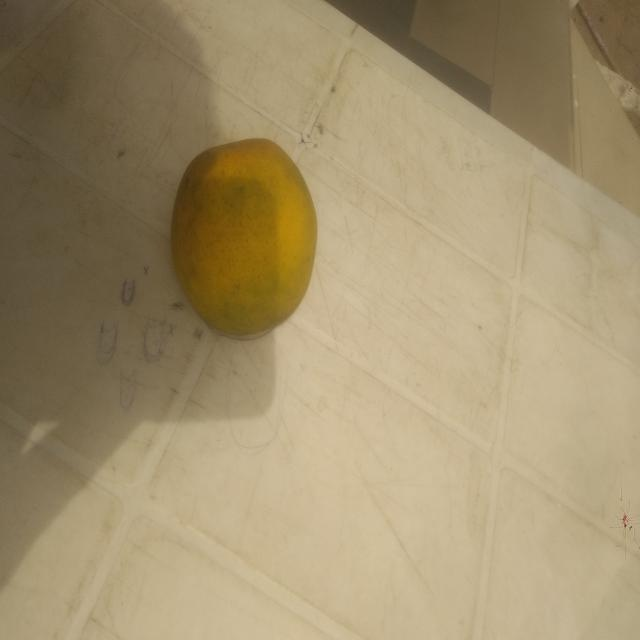agrume: (162, 127, 329, 371)
